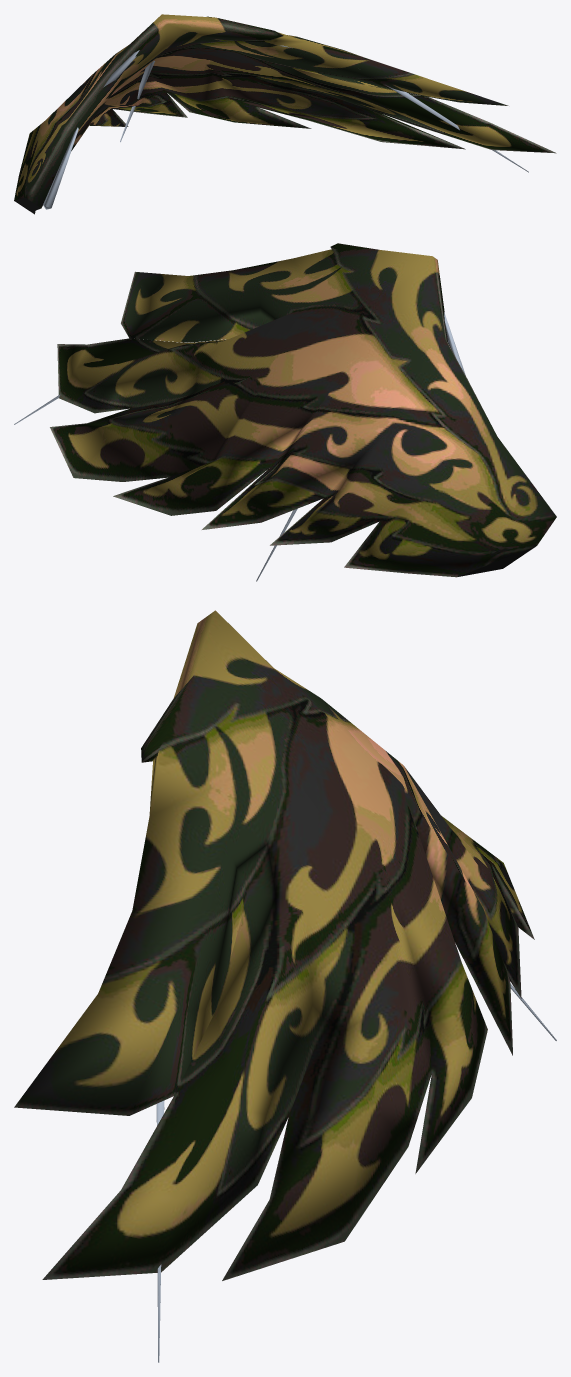
The model's file is left-wing.obj.
3 renders of one model, top to bottom at view 1: azimuth 30°, elevation 25°; view 2: azimuth 150°, elevation 25°; view 3: azimuth 270°, elevation 25°, orthographic. The views are drawn at different scales.
Visible parts, largest first — view 1: dragon; view 2: dragon; view 3: dragon.
Boxes of the visible parts, x1,y1,x2,y2 form: dragon: (14,14,556,214); dragon: (14,243,556,581); dragon: (14,610,556,1362).
Size of the model in its own units: 82.07 by 38.81 by 44.1.
